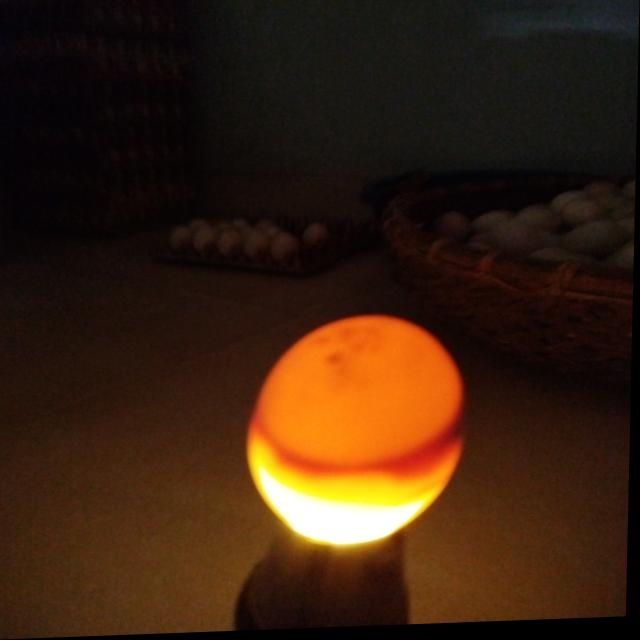Area Infectada: (256, 383, 468, 482)
